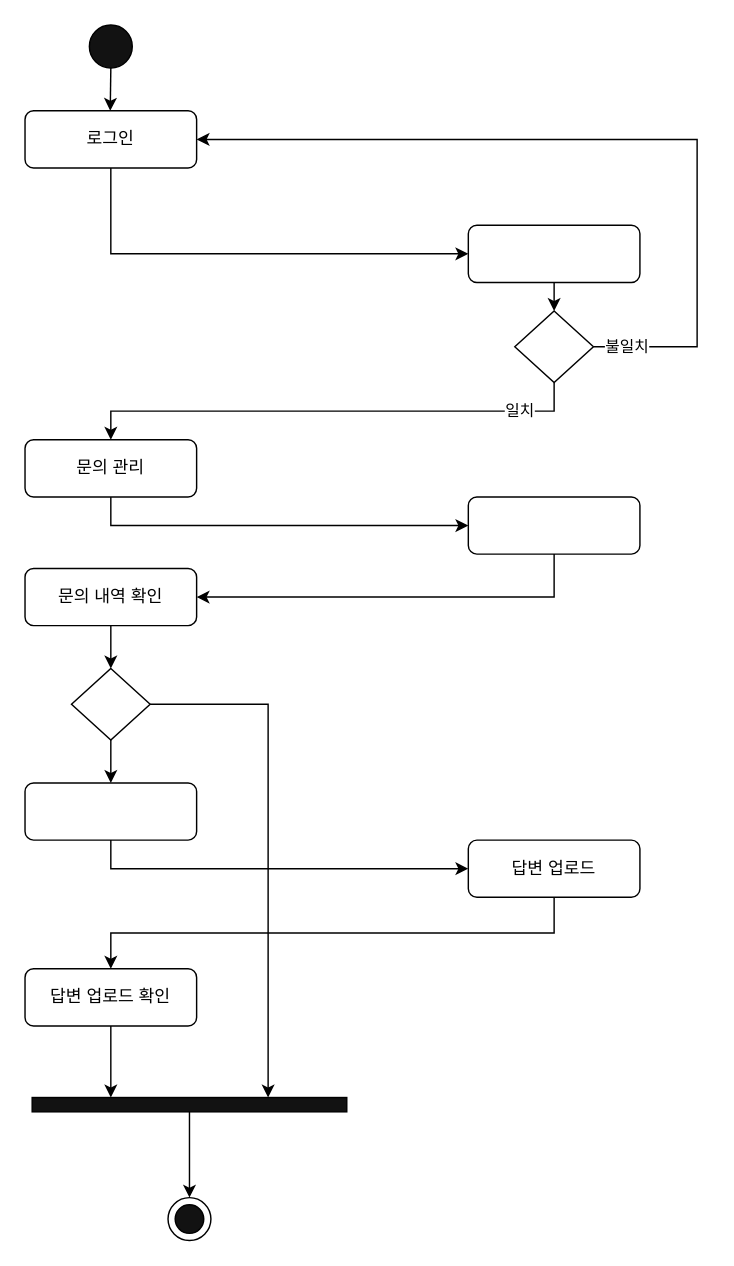
This 734x1266 diagram has some shape labels left out. Each missing label, with the box of its shape:
관리자 정보 DB 접근: (467, 224, 640, 282)
문의 내역 불러오기: (467, 495, 640, 554)
문의 답변: (24, 781, 197, 840)
